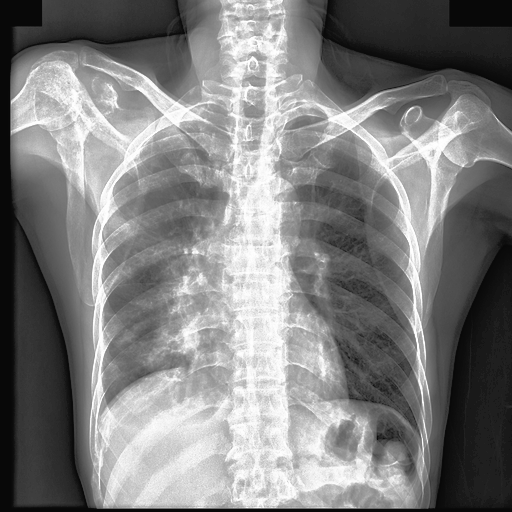Aortic enlargement: (141, 260, 200, 365)
Calcification: (148, 104, 208, 134)
ILD: (102, 208, 209, 389), (118, 210, 180, 266)
Pleural thickening: (141, 260, 200, 365), (118, 210, 180, 266)
